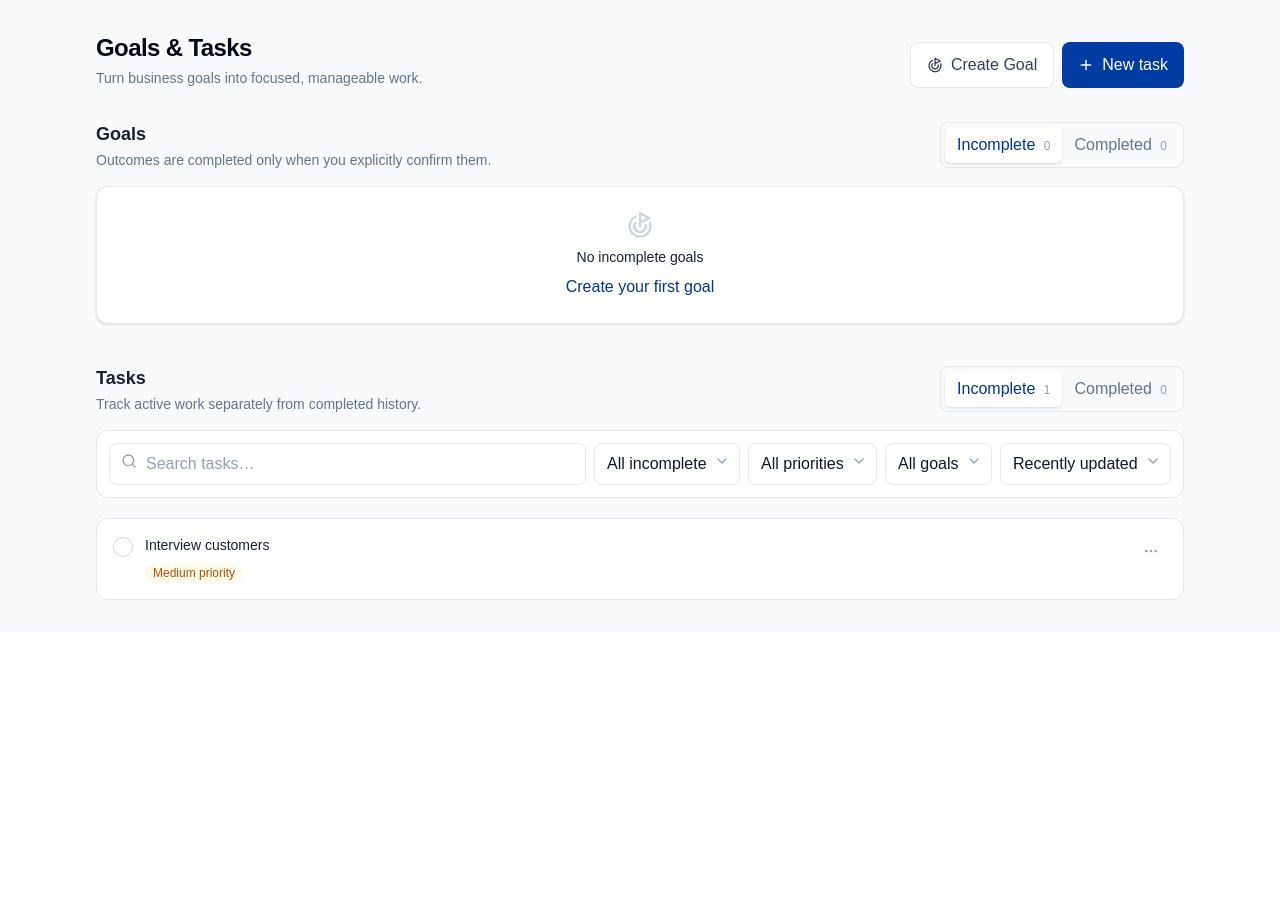
Test: persisted task and goal management › uses the in-app confirmation before permanently deleting a task
This screenshot has width=1280, height=900.
expect the text "Interview customers" is shown: met, box [145, 537, 270, 553]
What coordinates should you click on to do the following:
click the button named "Edit Interview customers"
I would click on:
 (1151, 551)
Its box is [1135, 535, 1167, 567].
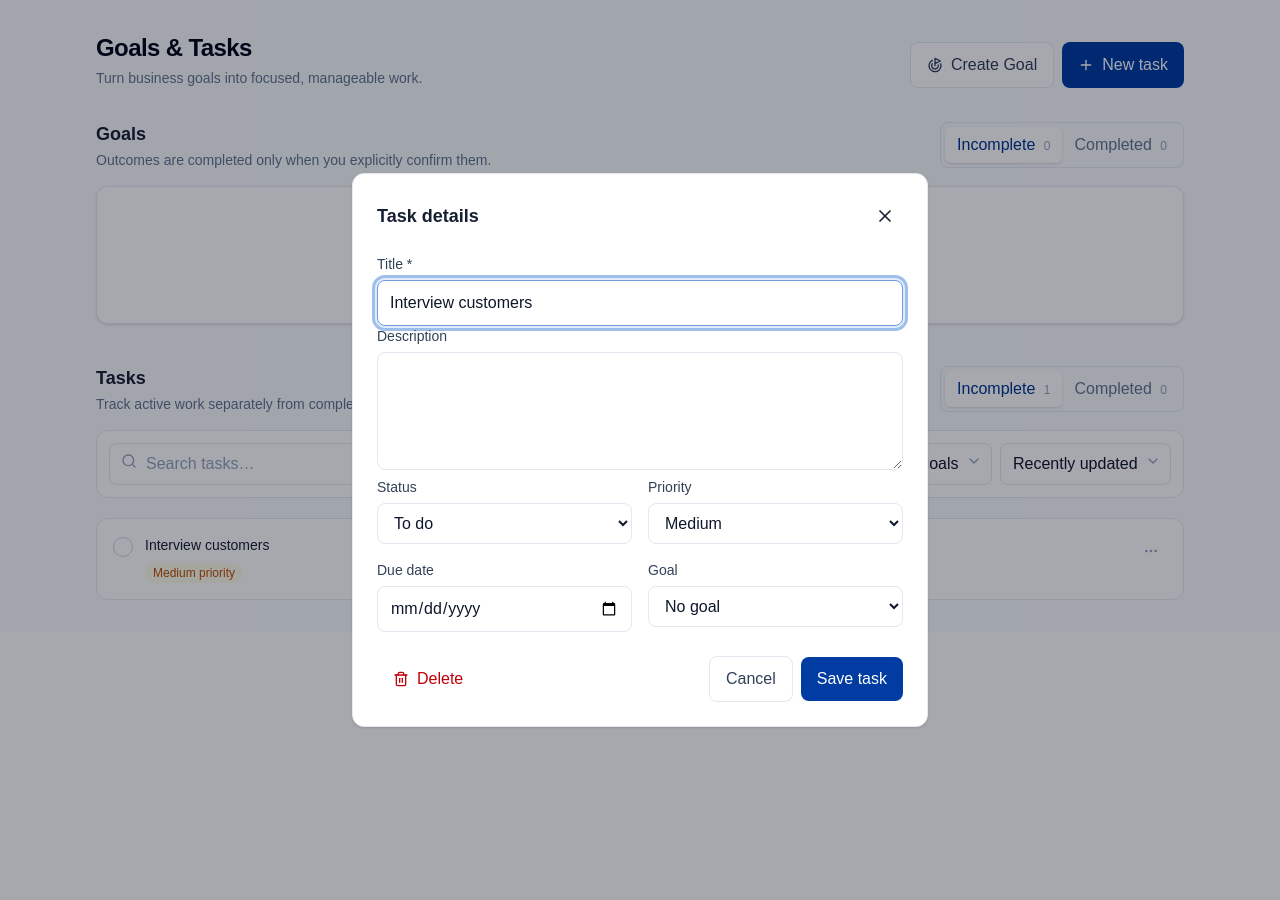
What coordinates should you click on to do the following:
click the button "Delete"
I would click on:
 (428, 679)
Its box is [377, 657, 479, 701].
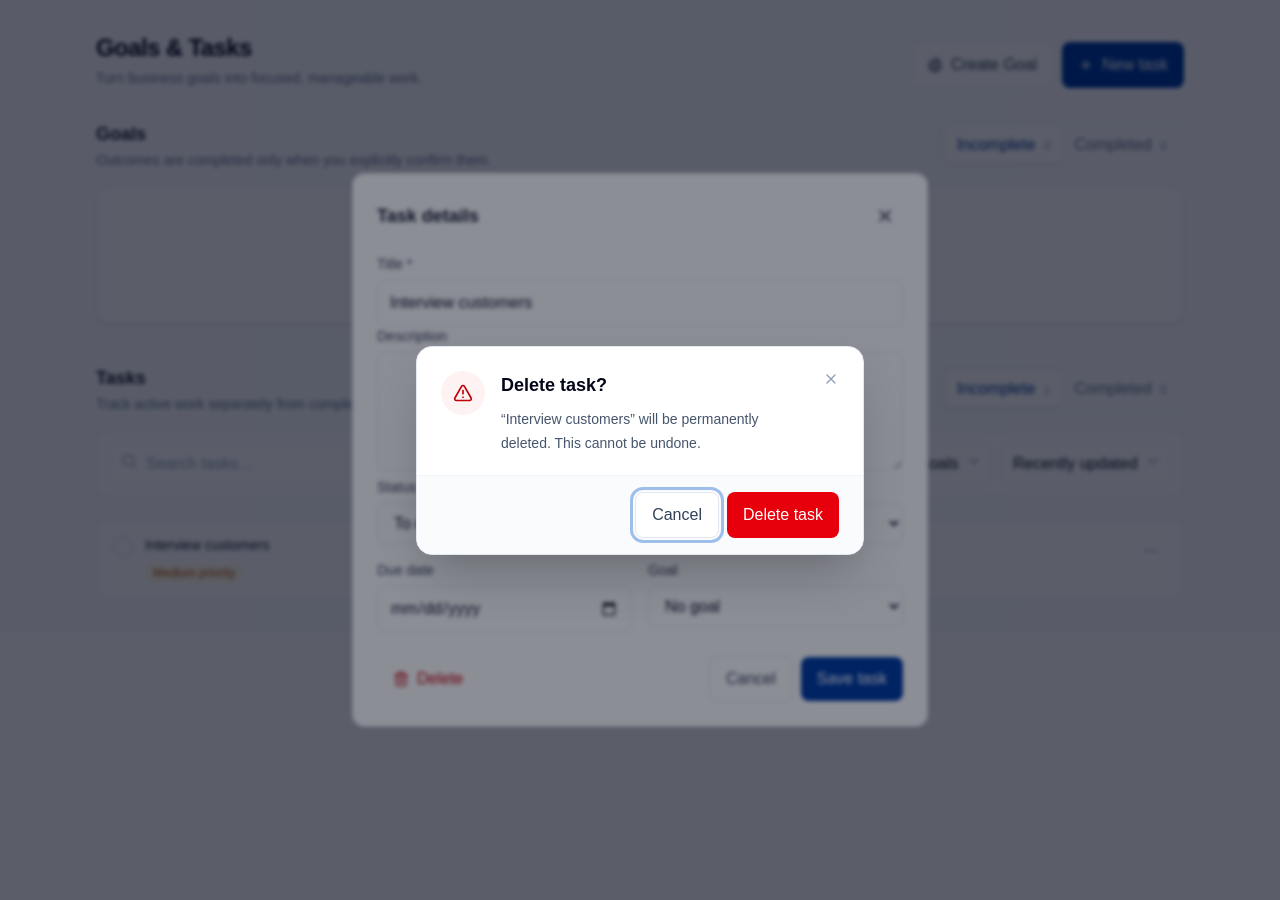
What coordinates should you click on to do the following:
click the button "Cancel"
I would click on:
 (677, 514)
Its box is [635, 492, 719, 538].
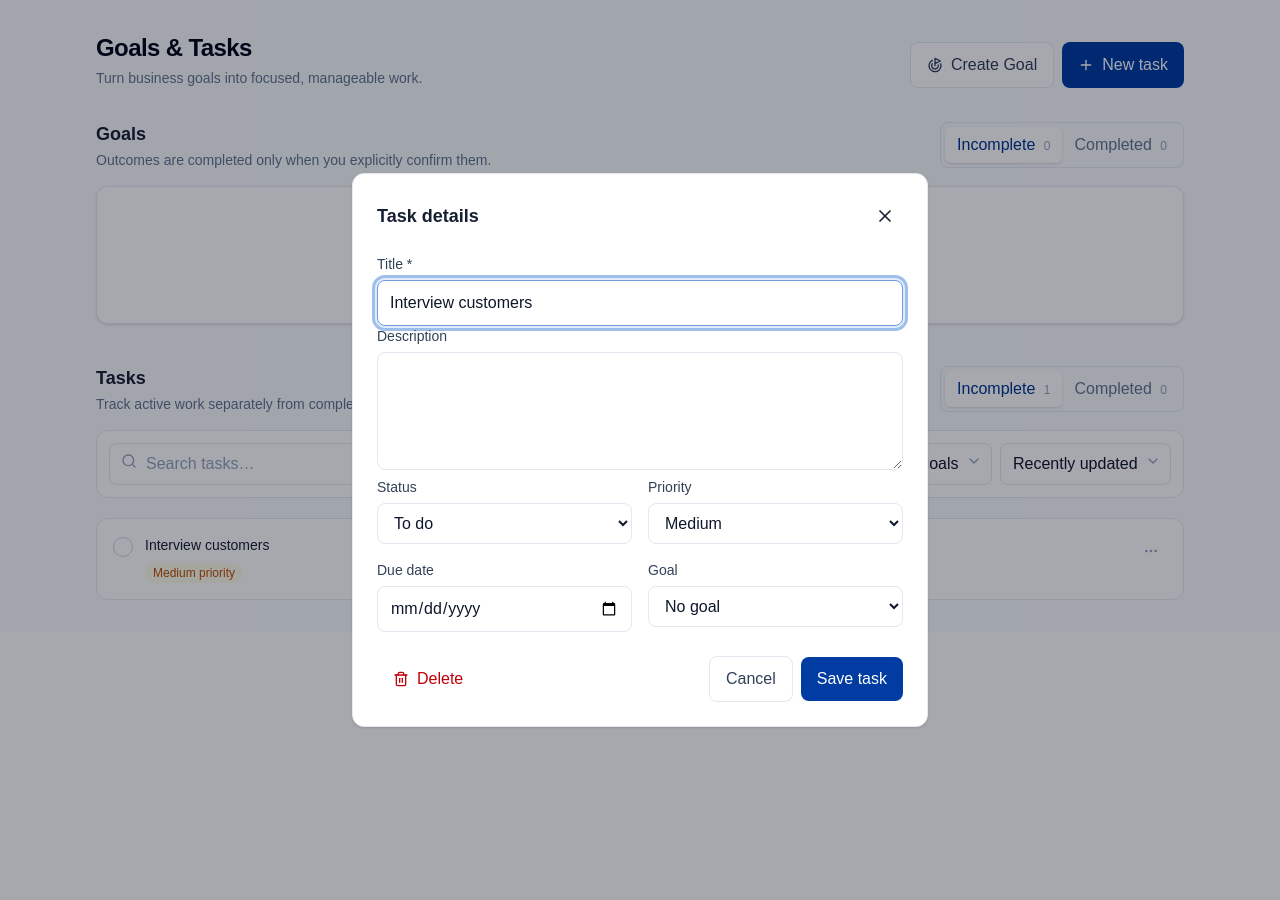
What coordinates should you click on to do the following:
click the button "Delete"
I would click on:
 (428, 679)
Its box is [377, 657, 479, 701].
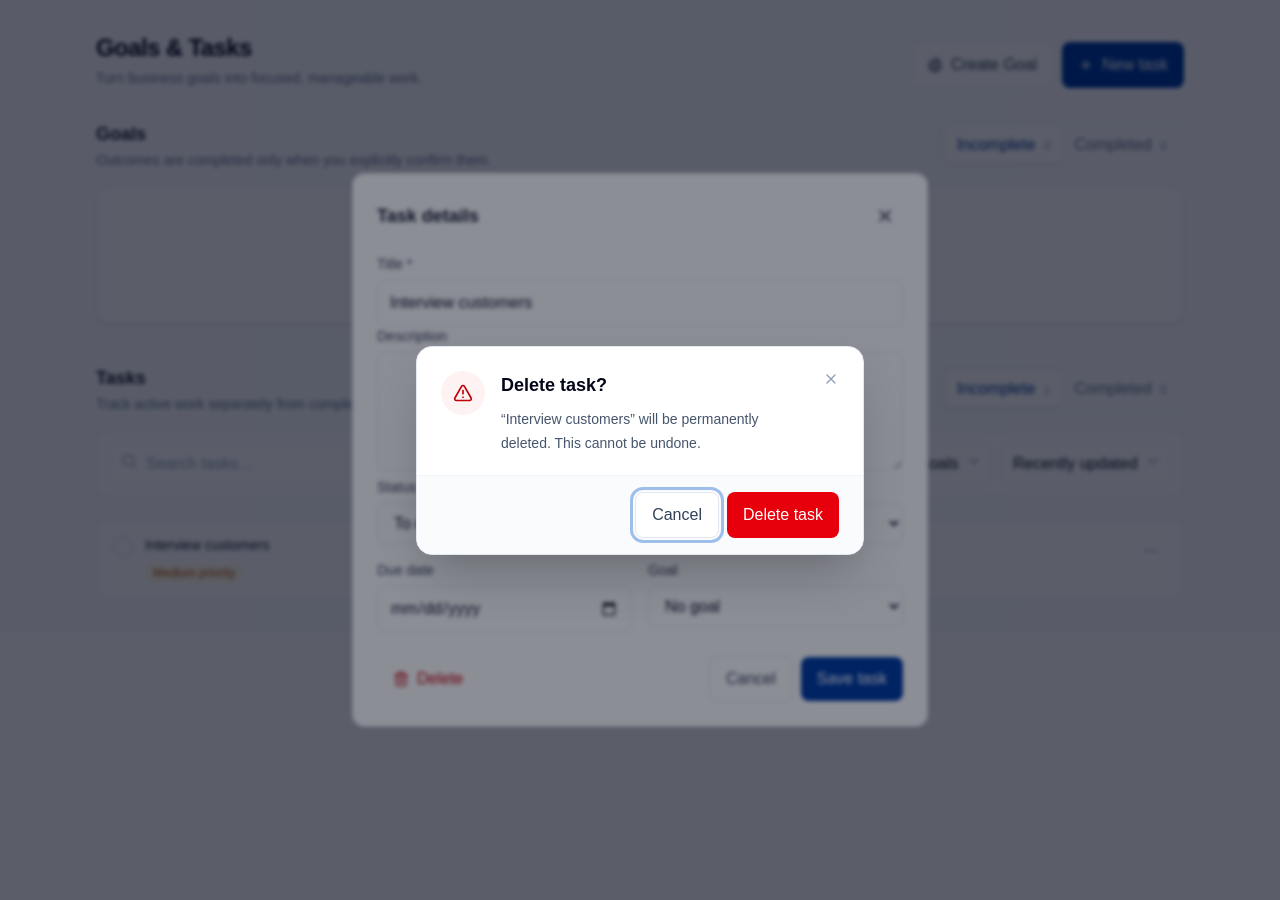
What coordinates should you click on to do the following:
click the button "Delete task"
I would click on:
 (783, 514)
Its box is [727, 492, 839, 538].
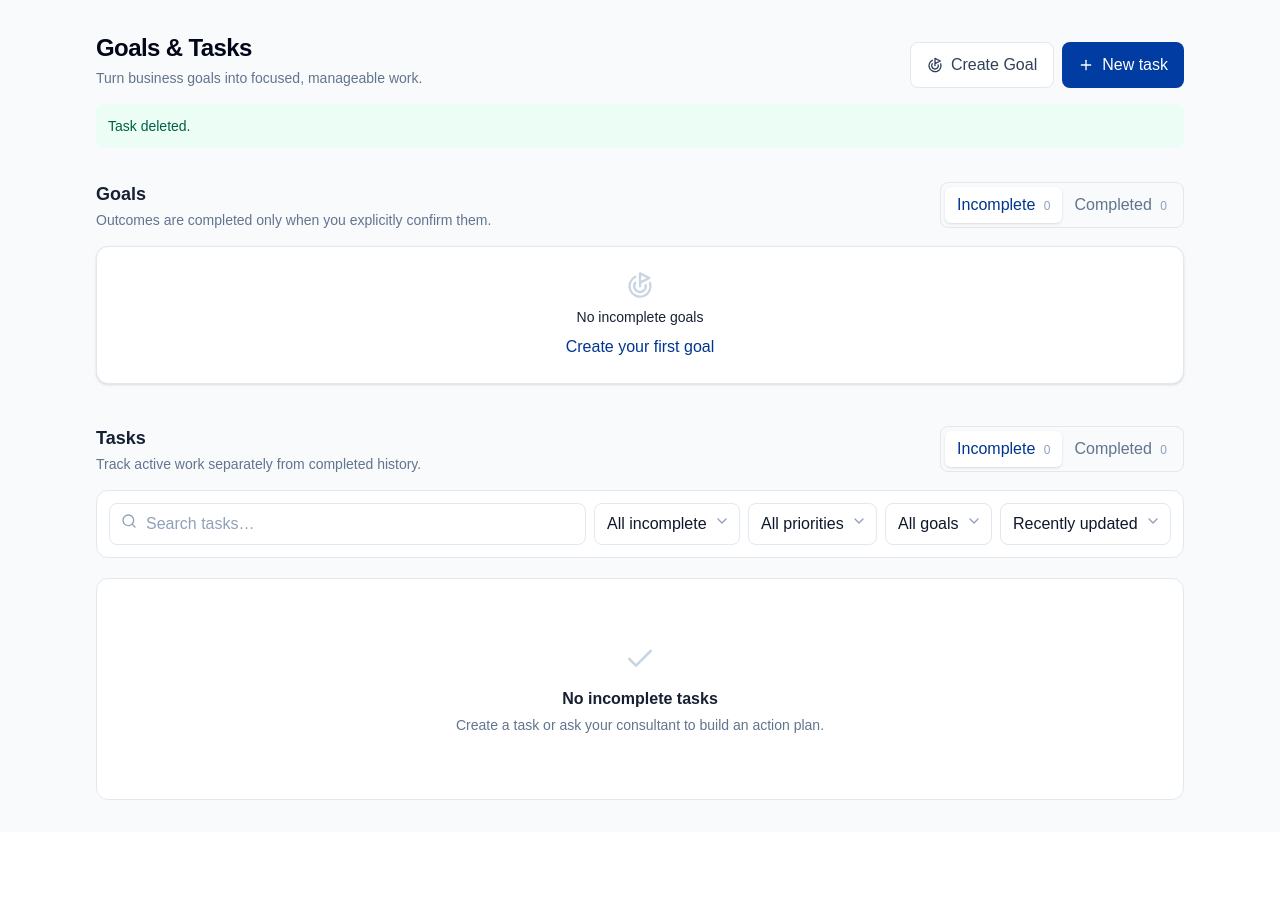
expect the text "Task deleted." is shown: met, box [96, 104, 1184, 148]
expect the button "Interview customers" is gone: met
